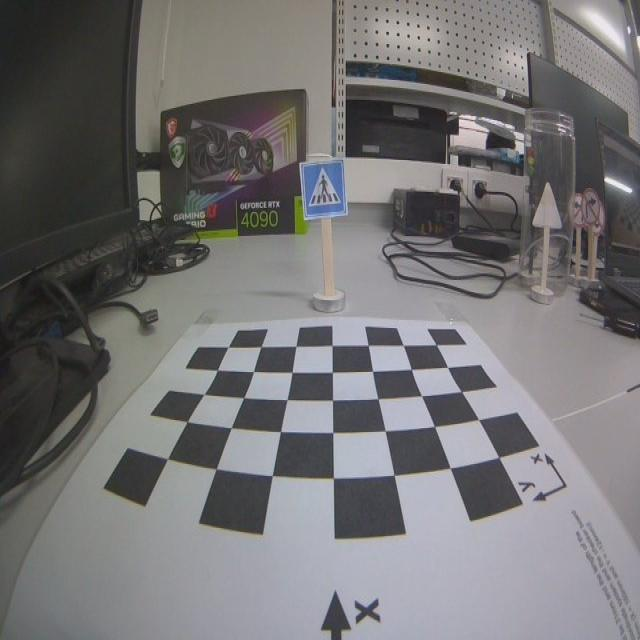Rambu Penyebrangan: (300, 162, 349, 218)
